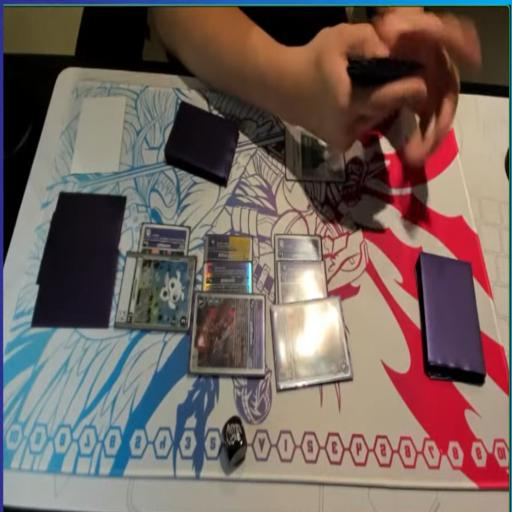card: (271, 295, 349, 388), (191, 292, 270, 375), (114, 256, 196, 330), (284, 115, 350, 178), (274, 262, 332, 312), (203, 261, 254, 298), (136, 228, 190, 262), (203, 233, 258, 265), (274, 232, 324, 265)
